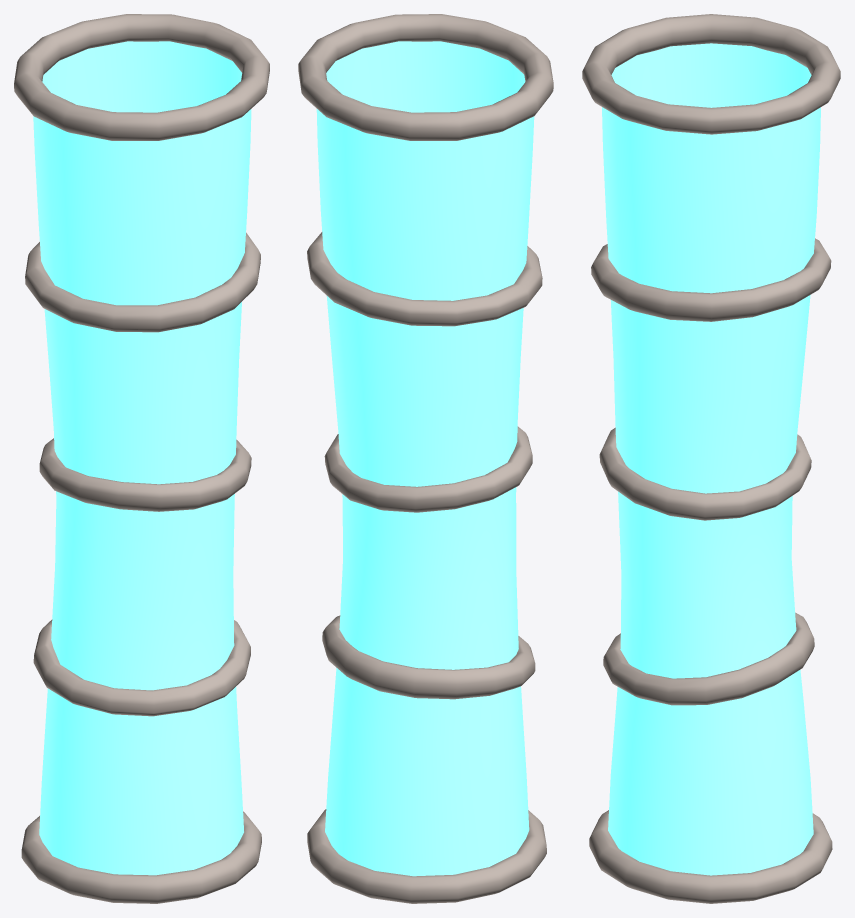
Rendered from SM_Lift_02.fbx.
3 views of the same model, side by side, from view 1: azimuth 30°, elevation 25°; view 2: azimuth 150°, elevation 25°; view 3: azimuth 270°, elevation 25° (orthographic).
Visible parts, largest first — view 1: SM_Lift_02; view 2: SM_Lift_02; view 3: SM_Lift_02.
Part boxes in pixels (box(x1,y1,x2,y2)): SM_Lift_02: box(14, 14, 269, 903); SM_Lift_02: box(298, 14, 553, 903); SM_Lift_02: box(582, 14, 840, 903).
Bounding box in the file's own units: 1100 × 3750 × 1100.
